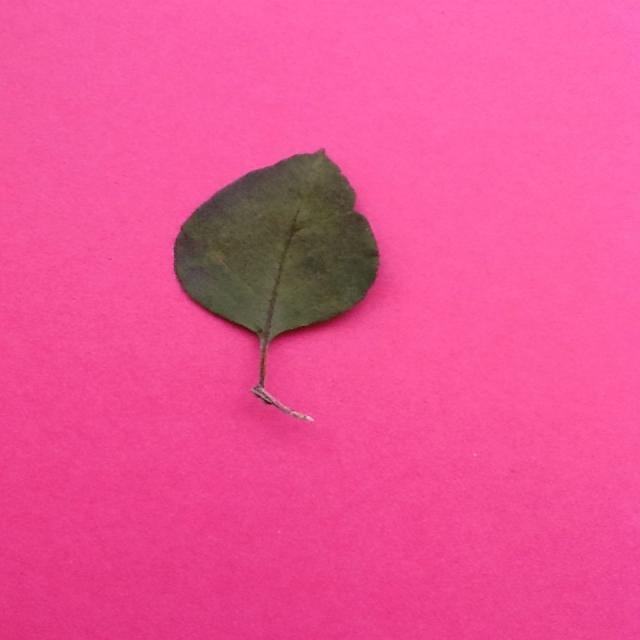foliage: (174, 147, 382, 426)
